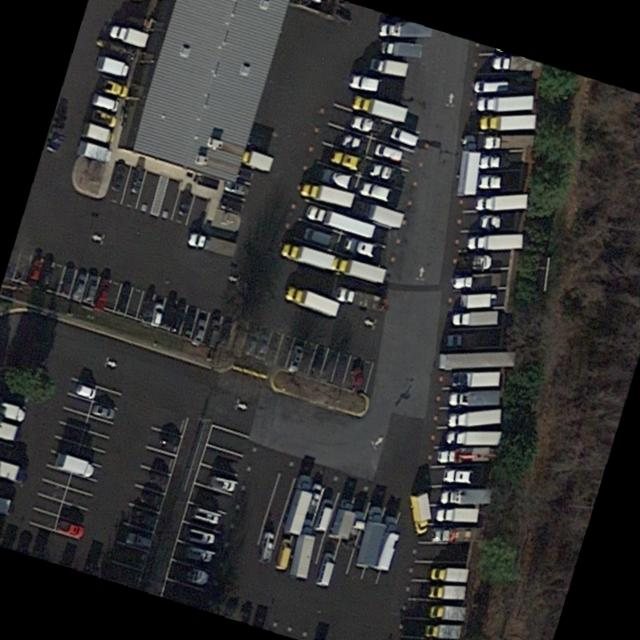large-vehicle: (305, 204, 375, 238), (354, 507, 386, 570), (284, 473, 314, 536), (285, 283, 340, 317), (370, 516, 402, 574), (288, 517, 317, 580), (351, 95, 408, 125), (351, 199, 408, 228), (435, 352, 516, 372), (335, 286, 389, 315), (281, 241, 336, 269), (301, 182, 356, 208), (187, 231, 238, 259), (332, 257, 386, 283), (51, 452, 97, 481), (331, 499, 358, 543), (460, 136, 479, 195), (436, 447, 496, 465), (475, 193, 527, 213), (449, 409, 501, 429), (479, 94, 533, 113), (108, 23, 149, 48), (410, 491, 433, 535), (480, 114, 536, 132), (466, 233, 522, 250), (378, 21, 432, 38), (482, 133, 535, 150), (447, 431, 501, 447), (76, 142, 113, 165), (452, 310, 498, 328), (94, 55, 130, 78), (452, 372, 500, 389), (442, 489, 490, 506), (431, 527, 475, 545), (451, 392, 500, 408), (492, 54, 543, 69), (81, 123, 114, 146), (369, 58, 408, 76), (0, 460, 28, 485), (380, 42, 423, 58), (458, 291, 494, 310), (0, 401, 28, 423), (0, 421, 25, 444), (429, 605, 466, 620), (437, 510, 479, 523), (430, 568, 468, 581), (430, 586, 467, 599), (425, 626, 461, 639), (0, 496, 16, 518)
small-vehicle: (317, 165, 357, 192), (357, 178, 393, 205), (300, 224, 336, 250), (348, 113, 385, 138), (312, 498, 336, 536), (329, 148, 363, 174), (451, 272, 500, 290), (313, 552, 337, 588), (272, 536, 295, 572), (240, 149, 273, 174), (344, 235, 377, 259), (212, 208, 242, 233), (372, 142, 403, 166), (255, 531, 277, 564), (190, 310, 210, 346), (442, 466, 476, 487), (55, 518, 86, 541), (124, 528, 152, 553), (128, 509, 157, 533), (389, 126, 419, 149), (180, 565, 210, 588), (306, 480, 325, 516), (205, 474, 237, 495), (339, 130, 368, 153), (330, 354, 350, 387), (137, 489, 164, 513), (204, 314, 223, 348), (319, 350, 338, 384), (137, 291, 157, 323), (263, 334, 282, 367), (87, 108, 116, 129), (193, 505, 222, 526), (348, 74, 380, 93), (183, 544, 213, 564), (367, 161, 394, 183), (180, 307, 198, 340), (286, 343, 305, 374), (93, 279, 112, 310), (90, 92, 119, 112), (254, 328, 271, 362), (81, 275, 99, 307), (100, 79, 128, 99), (69, 272, 88, 301), (218, 317, 235, 349), (230, 323, 247, 355), (276, 337, 293, 369), (170, 304, 187, 336), (308, 348, 326, 378), (109, 164, 127, 194), (159, 299, 177, 329), (186, 527, 214, 546), (474, 78, 509, 93), (26, 257, 44, 286), (90, 402, 116, 422), (72, 381, 98, 401), (243, 326, 260, 356), (149, 299, 166, 329), (114, 283, 131, 313), (175, 192, 193, 220), (156, 434, 180, 454), (444, 333, 478, 347), (37, 260, 54, 288), (223, 181, 250, 198), (58, 267, 75, 294), (45, 267, 63, 292), (129, 168, 145, 195), (349, 363, 363, 393), (478, 173, 502, 190), (469, 254, 493, 271), (220, 194, 243, 211), (478, 215, 501, 229), (479, 155, 501, 169)
